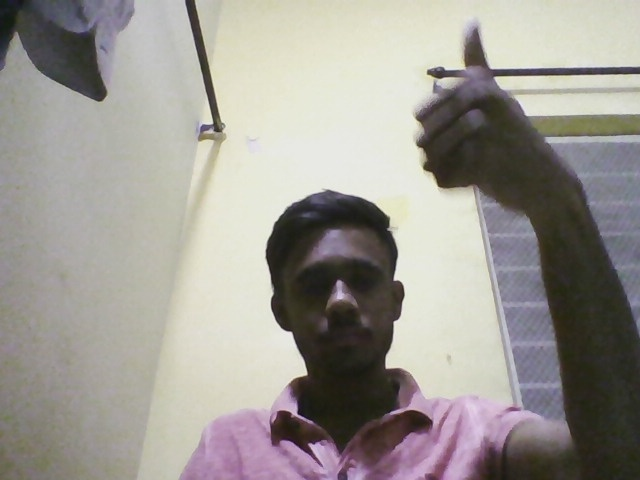yes: (387, 12, 561, 241)
